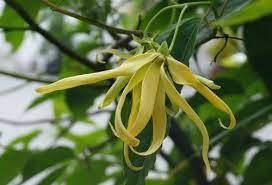ylang-ylang: (97, 35, 203, 162)
